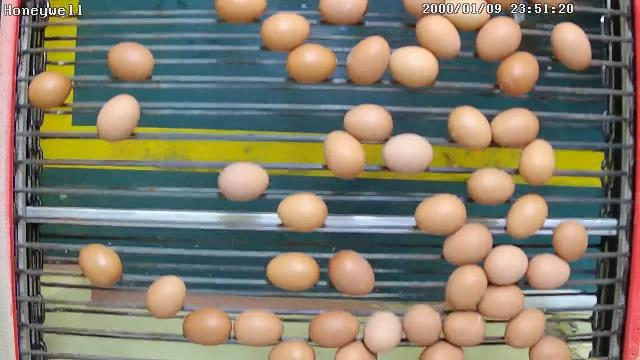egg: (215, 160, 272, 204), (94, 92, 142, 144), (264, 250, 322, 293), (380, 132, 434, 178), (412, 192, 468, 236), (328, 248, 377, 298), (345, 34, 391, 87), (473, 14, 522, 62), (442, 221, 492, 268), (388, 44, 439, 90), (306, 308, 361, 350), (416, 12, 462, 62), (495, 48, 541, 98), (286, 42, 338, 86), (76, 243, 124, 290), (490, 105, 540, 150), (259, 11, 311, 54), (550, 20, 593, 72), (324, 128, 367, 180), (276, 191, 329, 233), (180, 306, 233, 348), (504, 192, 550, 240), (444, 262, 488, 312), (342, 102, 394, 144), (482, 242, 530, 287), (465, 165, 516, 207), (447, 104, 492, 151), (106, 40, 154, 84), (143, 273, 187, 320), (442, 306, 488, 350), (402, 300, 444, 348), (362, 307, 404, 355), (233, 308, 283, 348), (476, 282, 526, 322), (502, 305, 547, 349), (526, 251, 572, 294), (518, 137, 557, 187), (27, 70, 73, 112), (550, 219, 590, 263)
